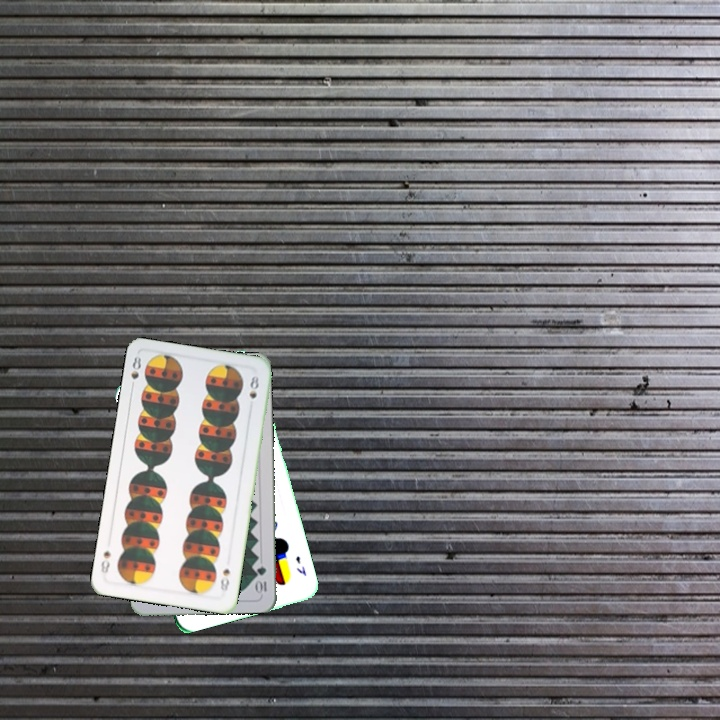EK: (291, 552, 309, 579)
G10: (253, 562, 269, 596)
S8: (127, 352, 144, 392), (216, 565, 232, 595)
